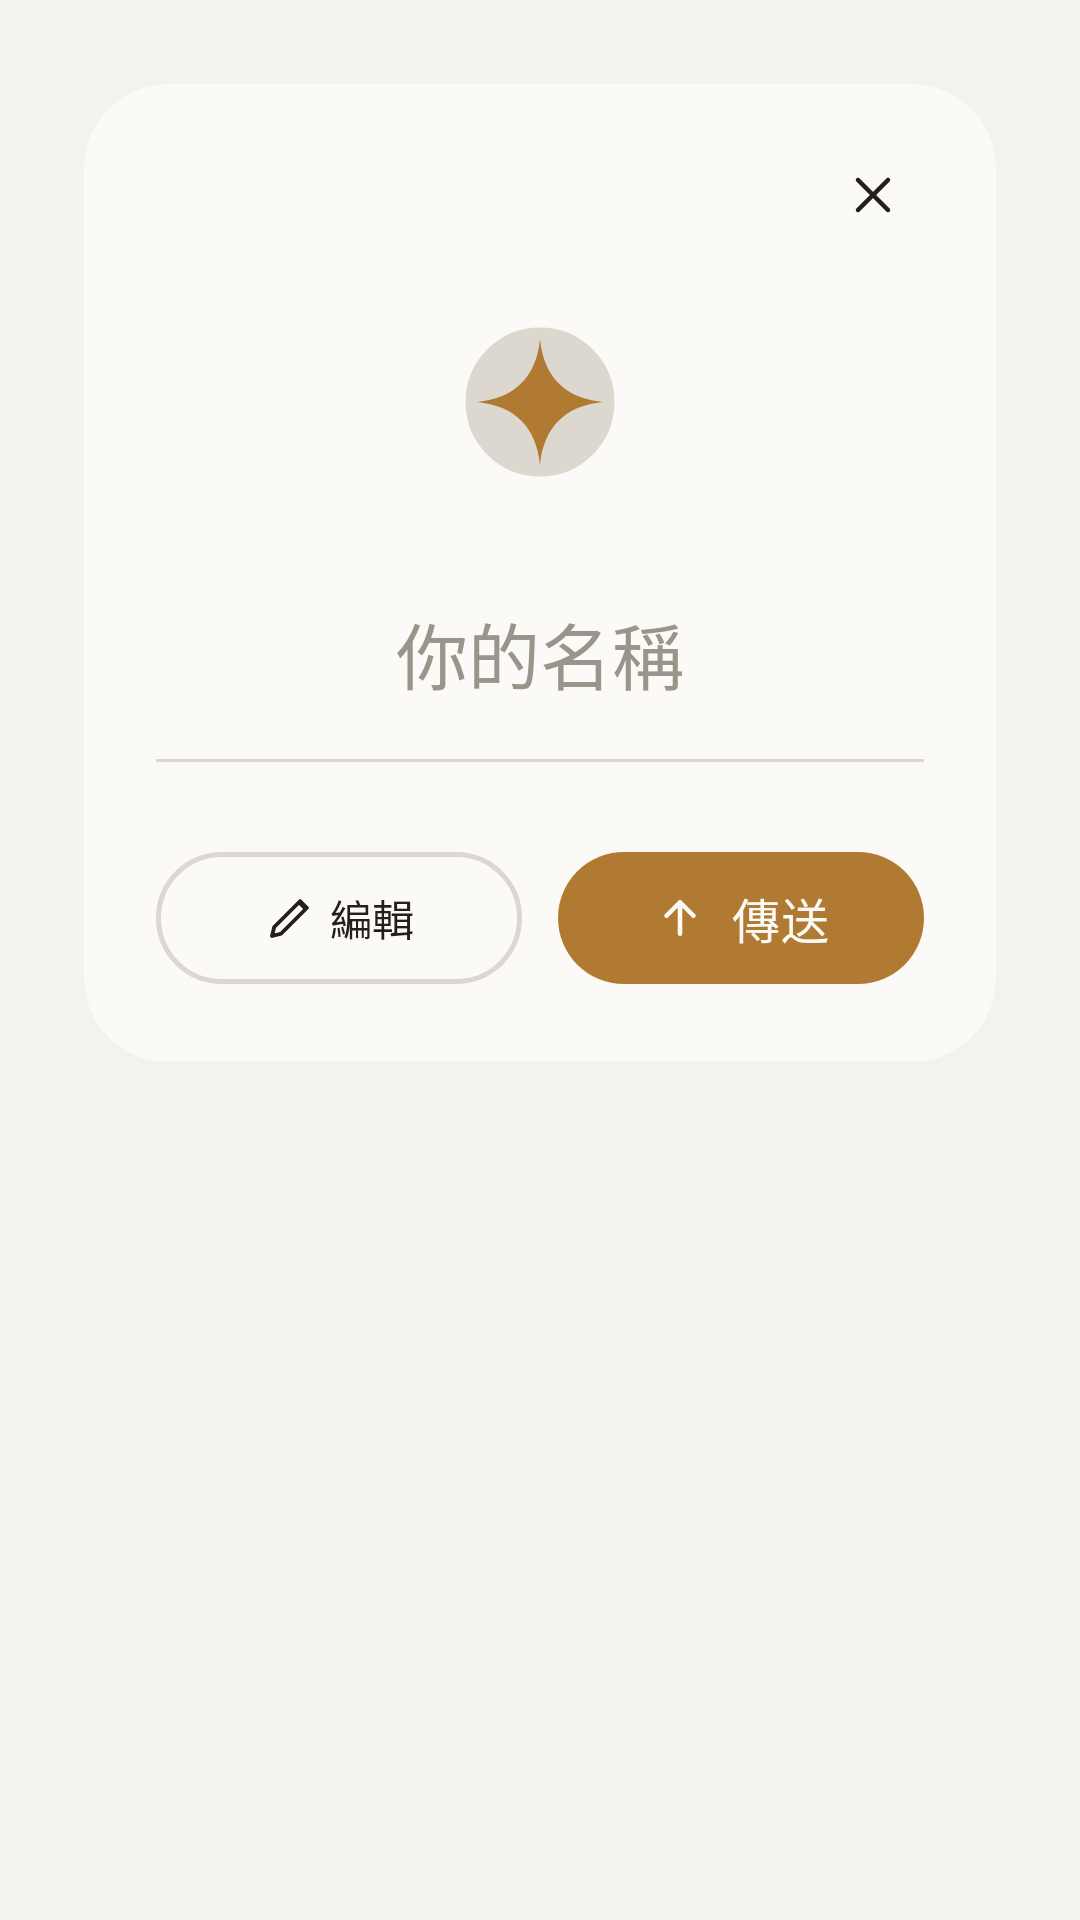

Icons on this 1080x1920 Android screen, each with the point to tap as (x,y):
關閉: (873,195)
